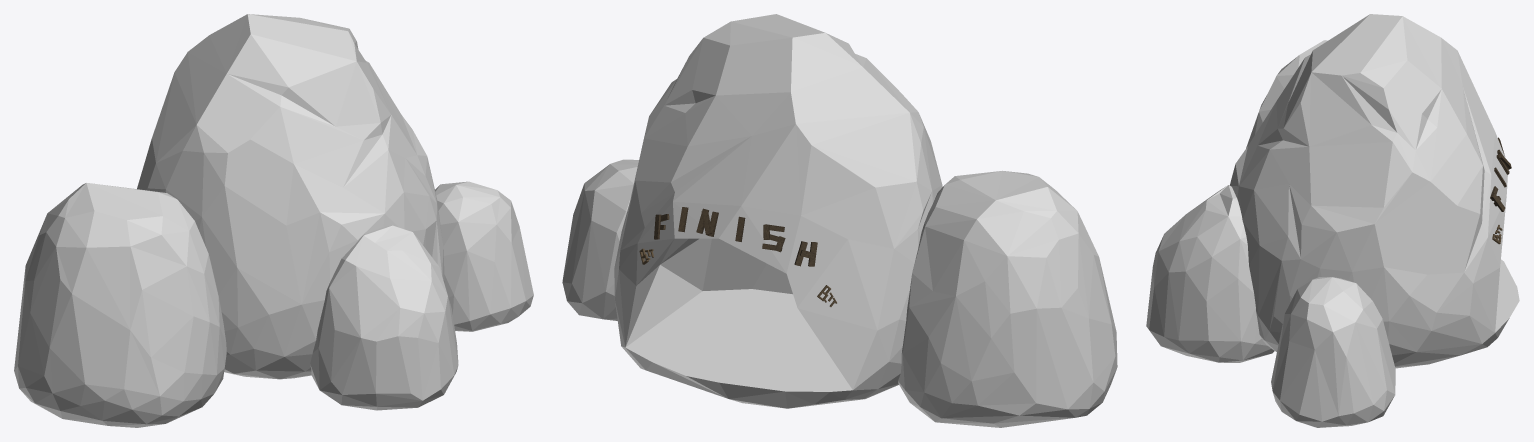
File: RockArrived.fbx
The picture shows the model from 3 angles, left to right: view 1: azimuth 30°, elevation 25°; view 2: azimuth 150°, elevation 25°; view 3: azimuth 270°, elevation 25°; orthographic projection. The views are drawn at different scales.
Parts seen in each view (by area): view 1: Group21933; view 2: Group21933, Cube.006; view 3: Group21933, Cube.006.
Boxes of the visible parts, x1=… form: Group21933: x1=14, y1=14, x2=533, y2=427; Group21933: x1=562, y1=14, x2=1117, y2=427; Cube.006: x1=654, y1=207, x2=817, y2=266; Group21933: x1=1146, y1=14, x2=1519, y2=427; Cube.006: x1=1490, y1=137, x2=1511, y2=211.
Bounding box in the file's own units: 10000 × 6302 × 6782.
Materials: 4 (2 with a texture image).
